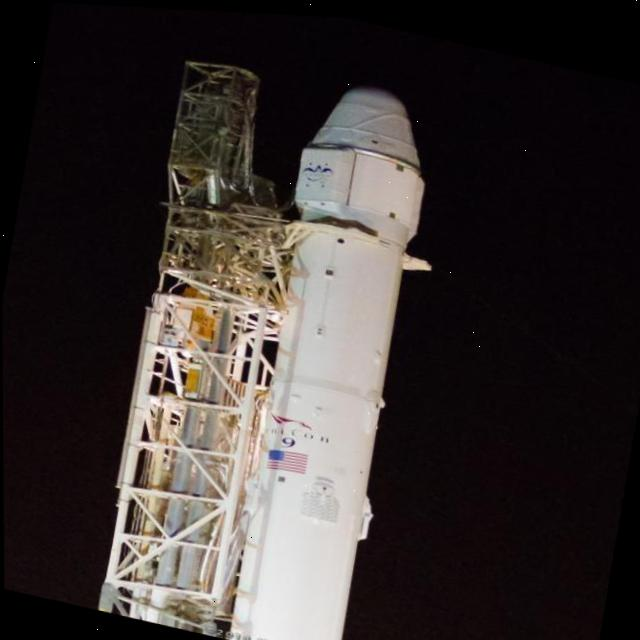missile: (214, 61, 449, 640)
